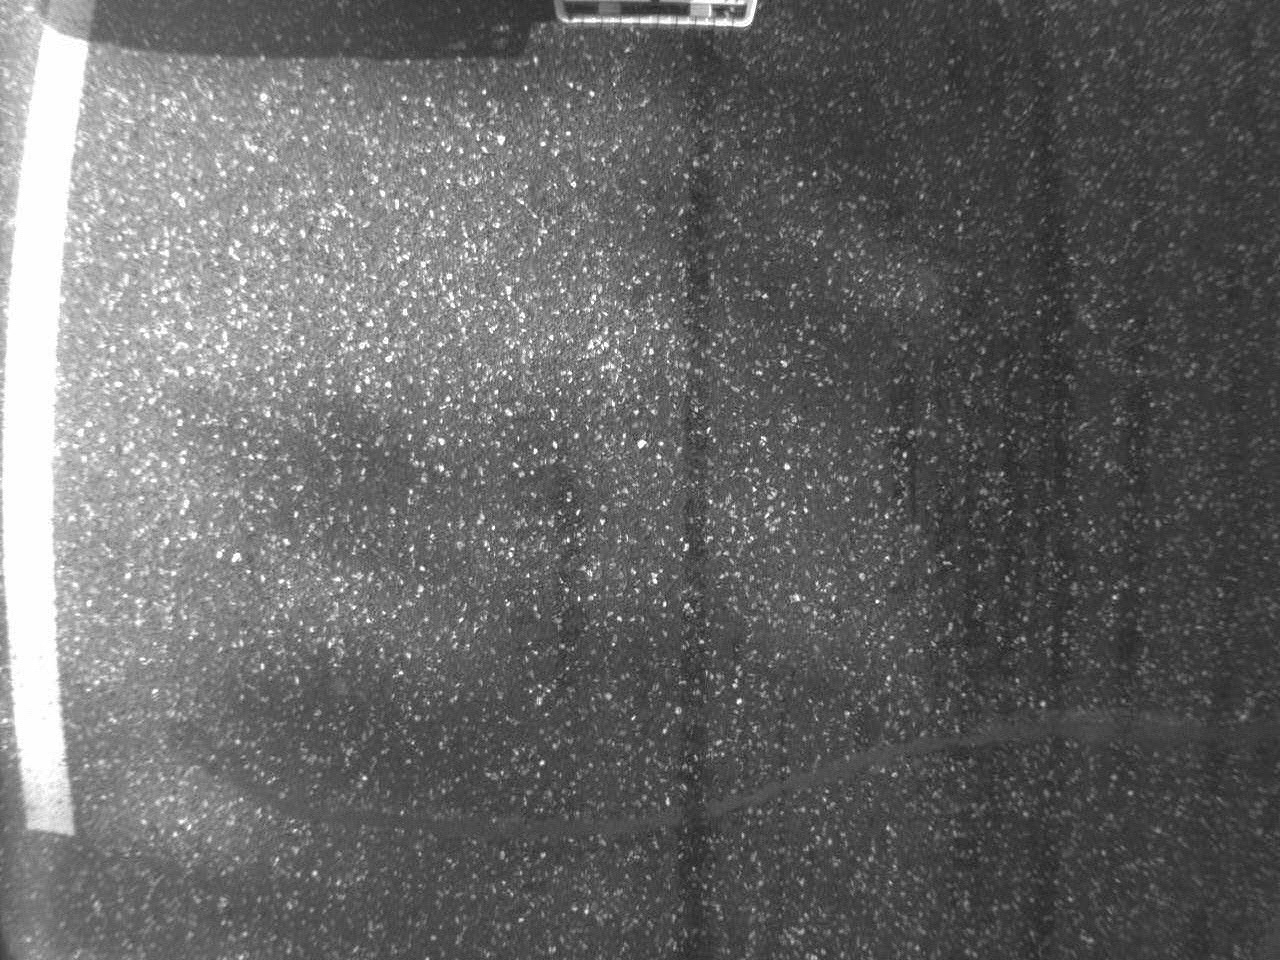sealed: (170, 702, 1268, 856)
